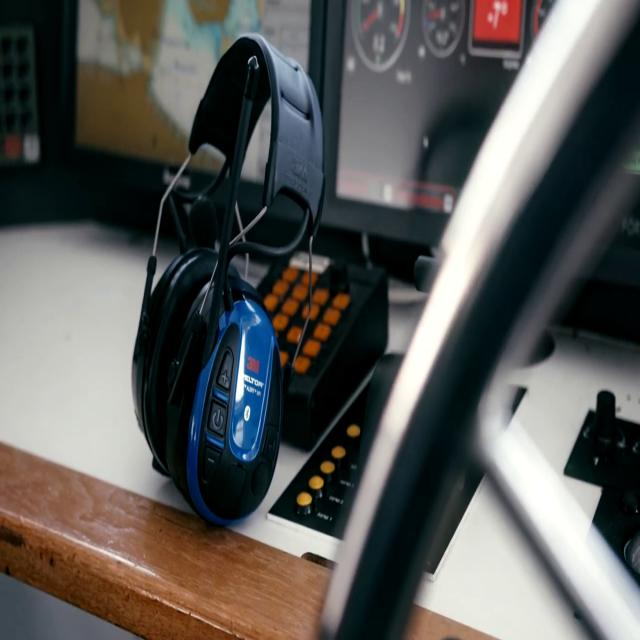earmuff: (160, 276, 286, 531)
